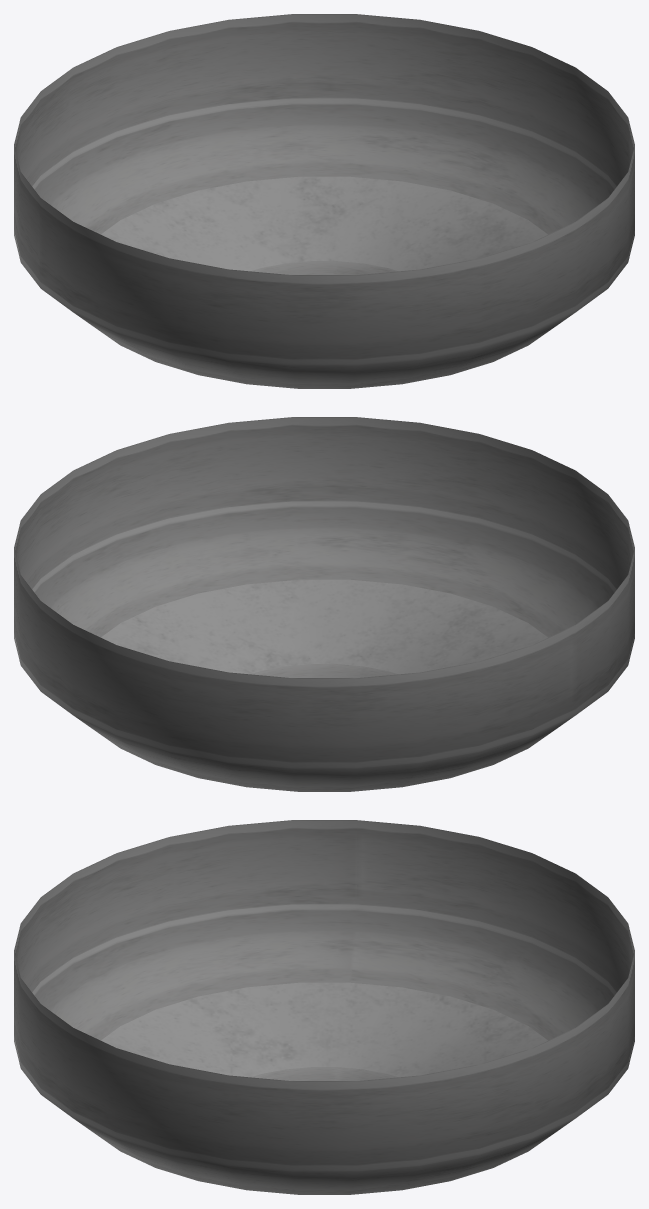
The model's file is SM_Ceiling_Mount.fbx.
3 renders of one model, top to bottom at view 1: azimuth 30°, elevation 25°; view 2: azimuth 150°, elevation 25°; view 3: azimuth 270°, elevation 25°, orthographic.
Parts seen in each view (by area): view 1: SM_Ceiling_Mount_LOD0; view 2: SM_Ceiling_Mount_LOD0; view 3: SM_Ceiling_Mount_LOD0.
Part boxes in pixels (left/top/right/bottom): SM_Ceiling_Mount_LOD0: left=14, top=14, right=634, bottom=388; SM_Ceiling_Mount_LOD0: left=14, top=417, right=634, bottom=791; SM_Ceiling_Mount_LOD0: left=14, top=820, right=634, bottom=1194.
Size of the model in its own units: 16.54 by 16.63 by 5.69.
